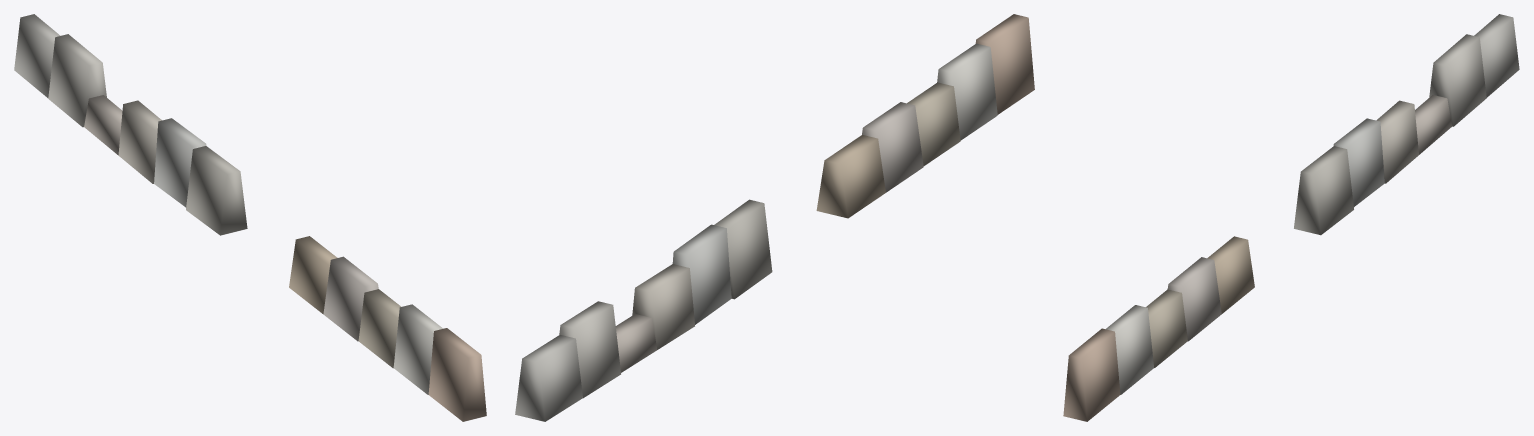
The model's file is farm_6_25_collision.glb.
3 views of the same model, side by side, from view 1: azimuth 30°, elevation 25°; view 2: azimuth 150°, elevation 25°; view 3: azimuth 330°, elevation 25° (orthographic). The views are drawn at different scales.
Visible parts, largest first — view 1: geometry_0; view 2: geometry_0; view 3: geometry_0.
Part boxes in pixels (left/top/right/bottom): geometry_0: left=14, top=14, right=486, bottom=421; geometry_0: left=515, top=14, right=1034, bottom=421; geometry_0: left=1063, top=14, right=1519, bottom=421.
Bounding box in the file's own units: 0.8424 × 2.17 × 19.91.
